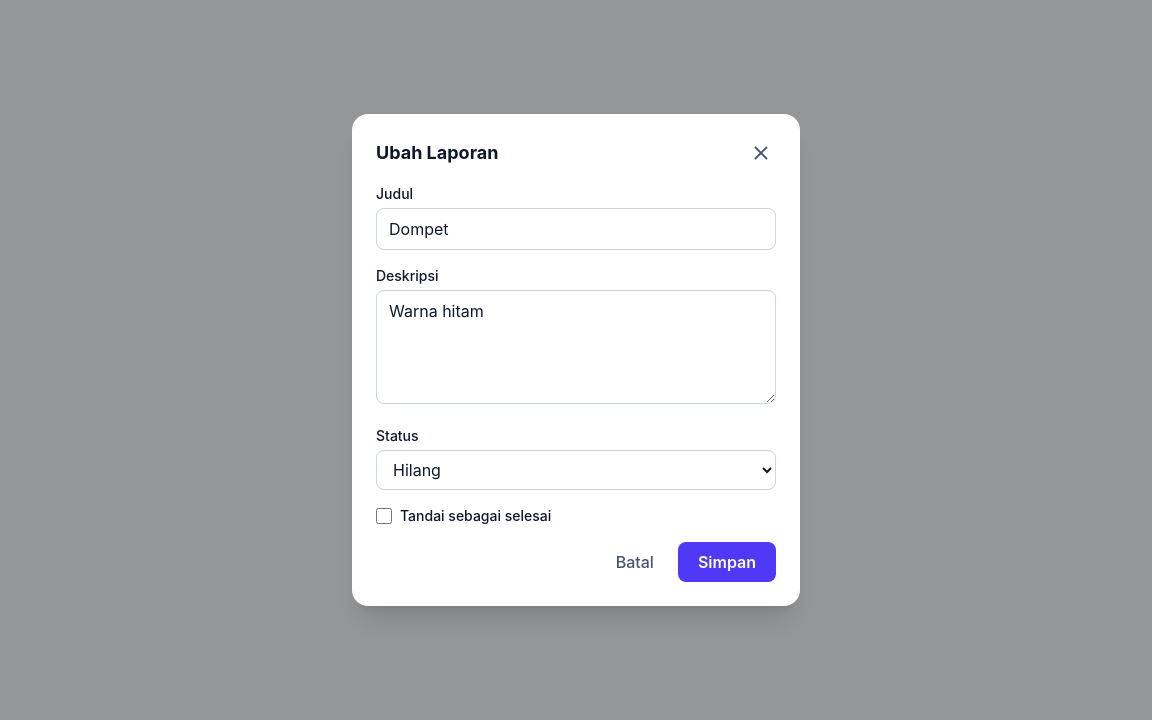
Test case: ChangeModal › menampilkan pesan error jika judul dan deskripsi dikosongkan
The width and height of the screenshot is (1152, 720).
Clear the field labelled "Judul" at [576, 229], box [376,208,776,250]
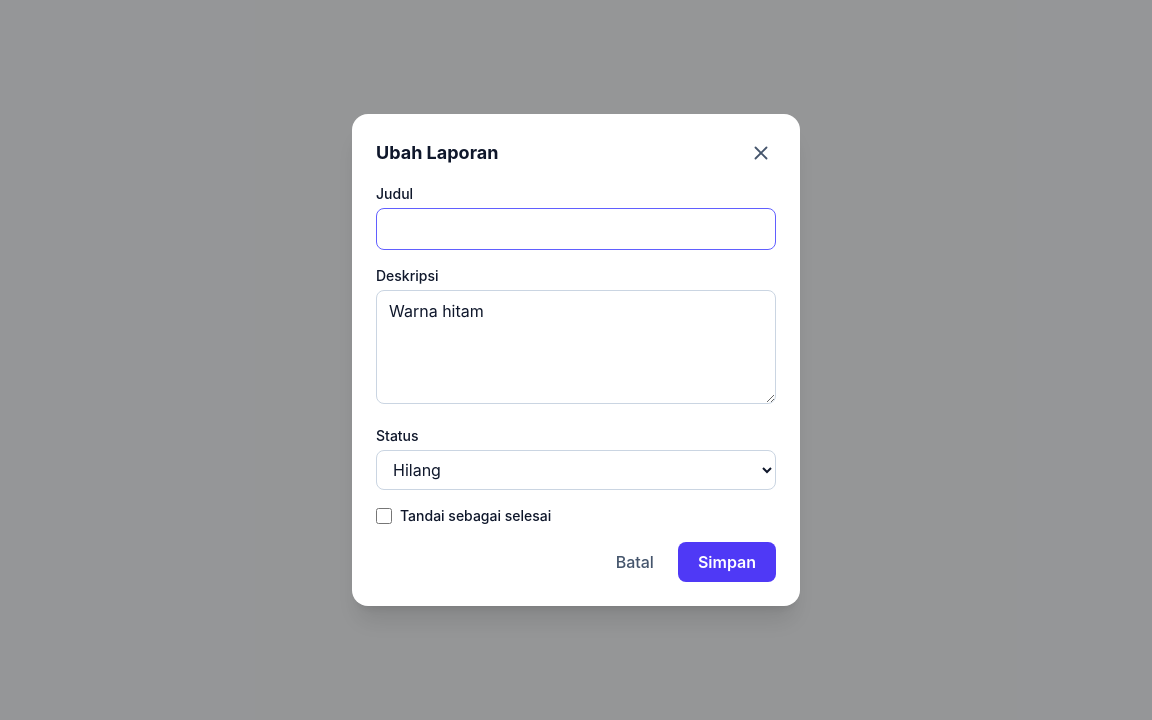
Clear the text box labelled "Deskripsi" at [576, 347], box [376,290,776,404]
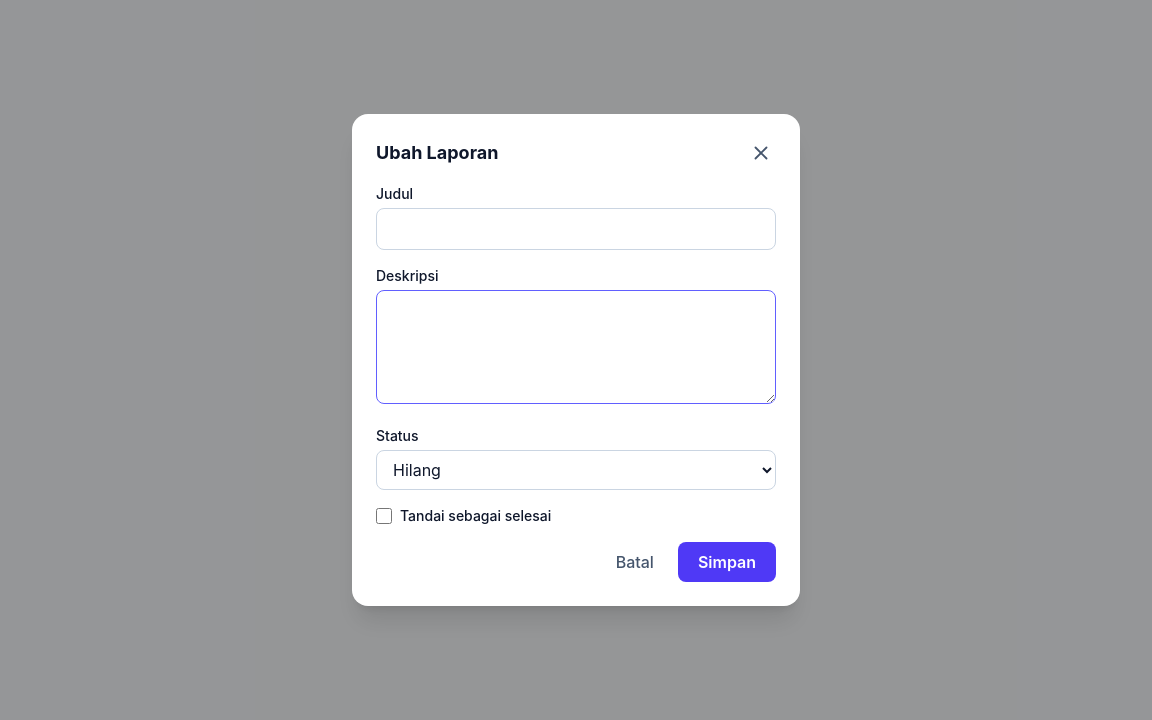
Click the button "Simpan" at [727, 562], box [678,542,776,582]
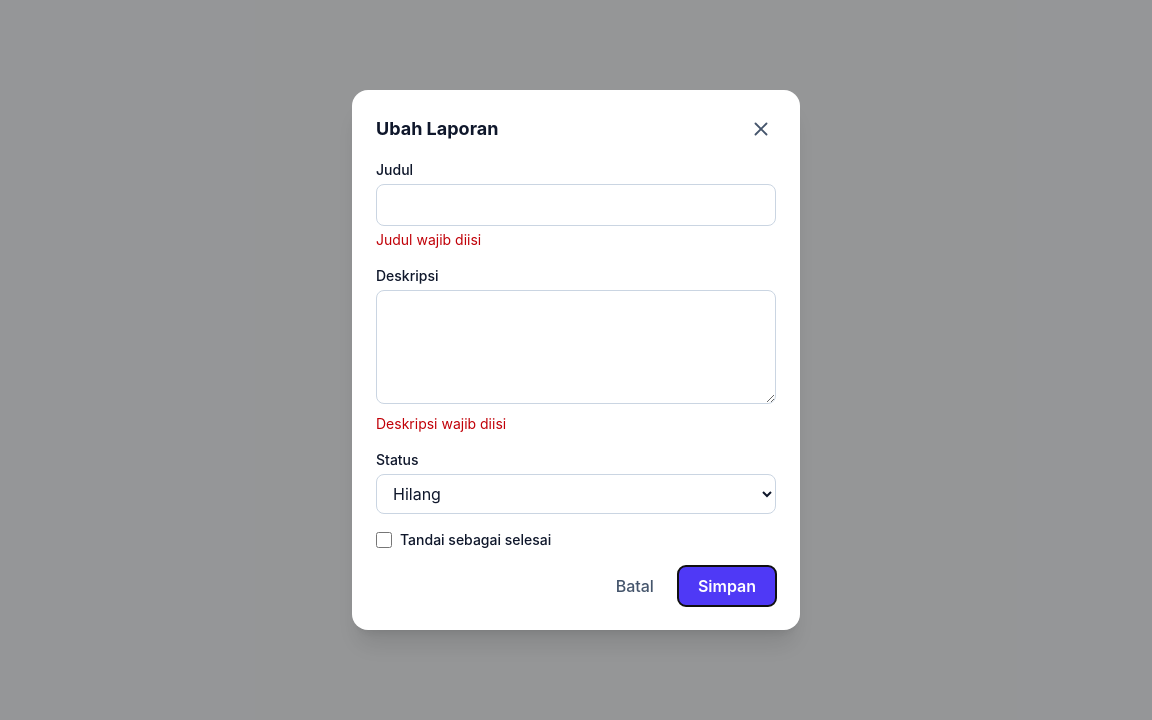
Check: the text "Judul wajib diisi" is shown, box [376,231,481,248]
Check: the text "Deskripsi wajib diisi" is shown, box [376,415,506,432]
